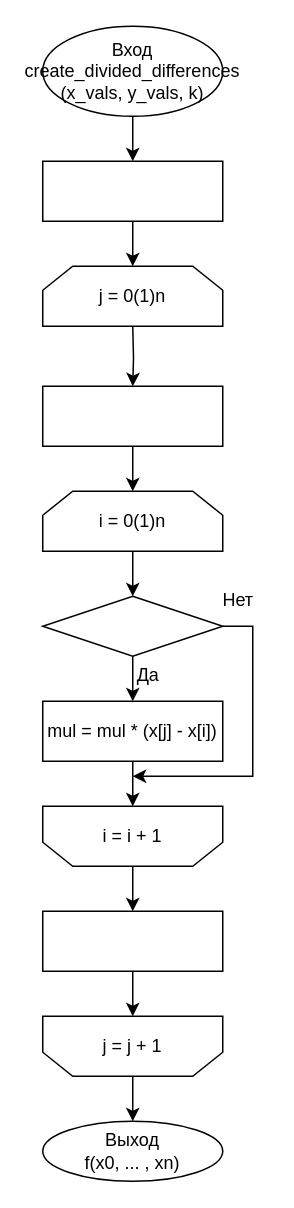
The diagram is 294 pixels wide and 1208 high, and some of its shapes have lost their labels. The centre of each missing label's shape, as x and y in pixels:
"i != j" goes at pixel 132 625.
"mul = 1" goes at pixel 132 415.
"sum = 0" goes at pixel 132 190.
"sum = sum + f(x[j]) / mul" goes at pixel 132 940.
